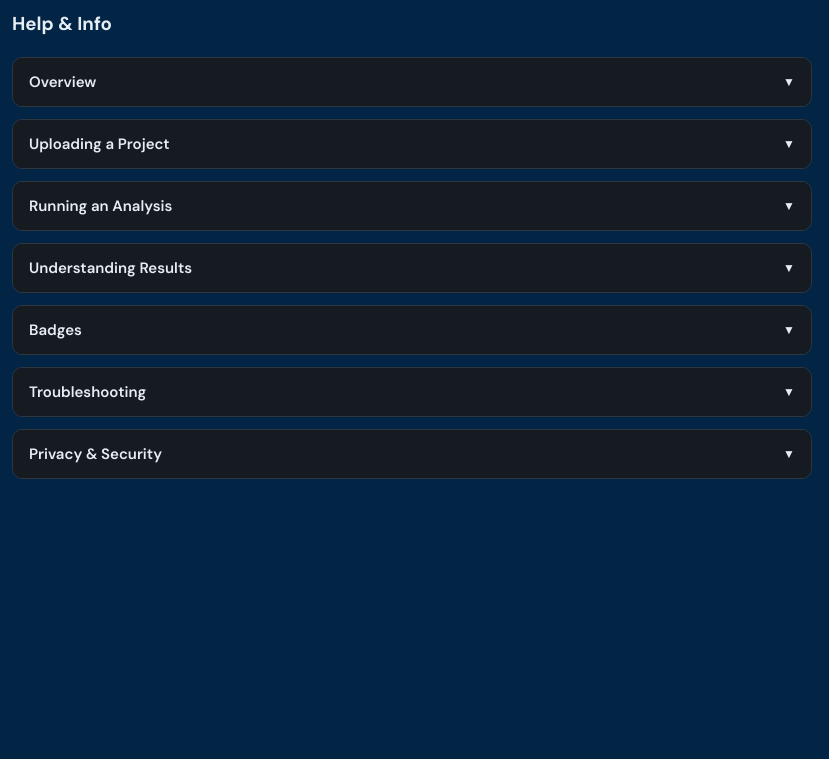
Test: Section toggling › collapses Overview on second click
Click the button "Overview ▼".
click(63, 82)  # box [13,58,811,106]
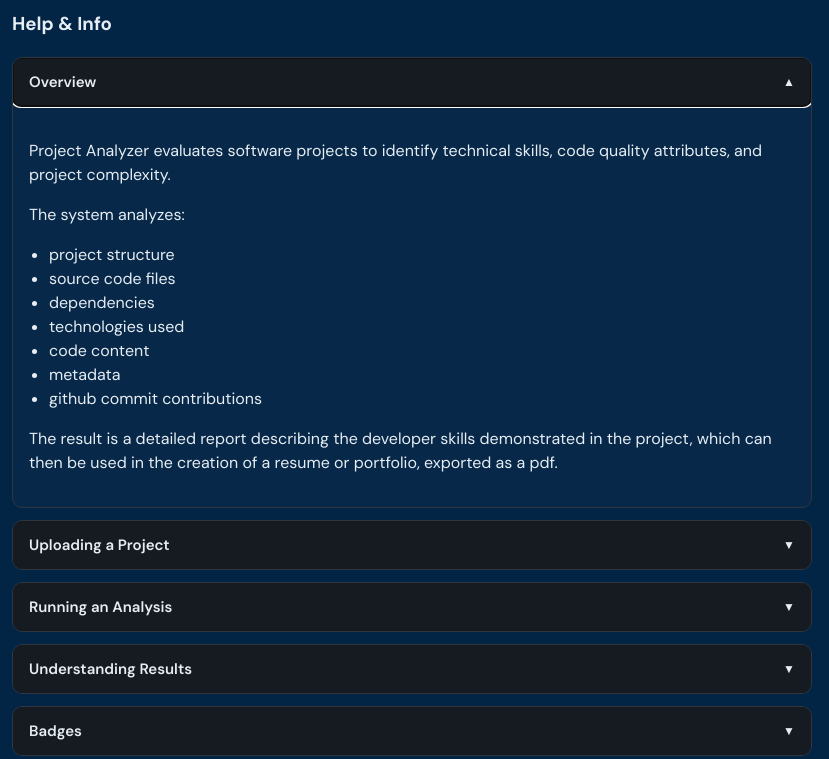
Now the text "Project Analyzer evaluates" is shown, box [29,140,762,184]
Click the button "Overview ▲".
click(63, 82)  # box [13,58,811,106]
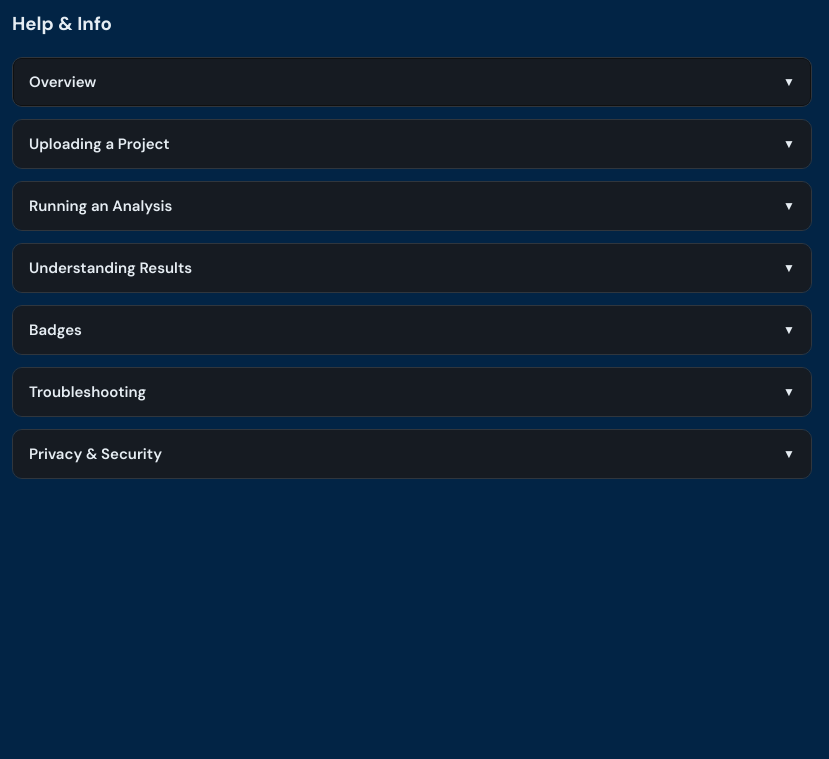
Now the text "Project Analyzer evaluates" is gone
